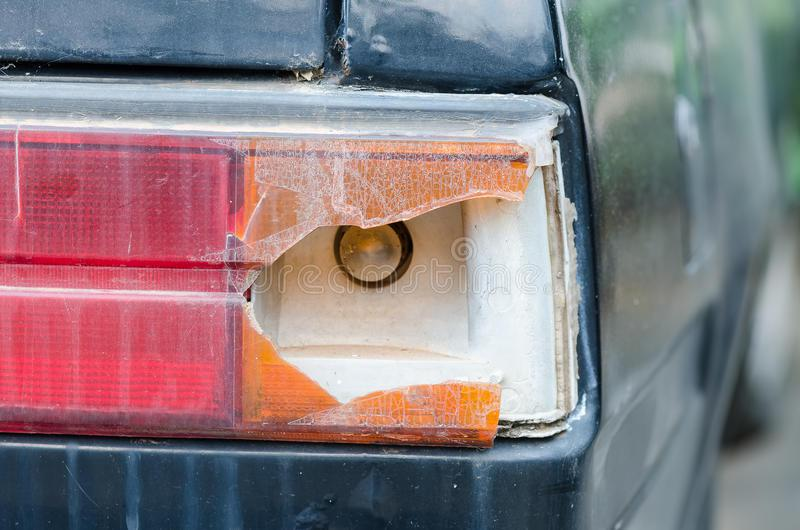Signlight-Damage: (222, 83, 604, 446)
Taillight-Damage: (0, 67, 637, 472)
